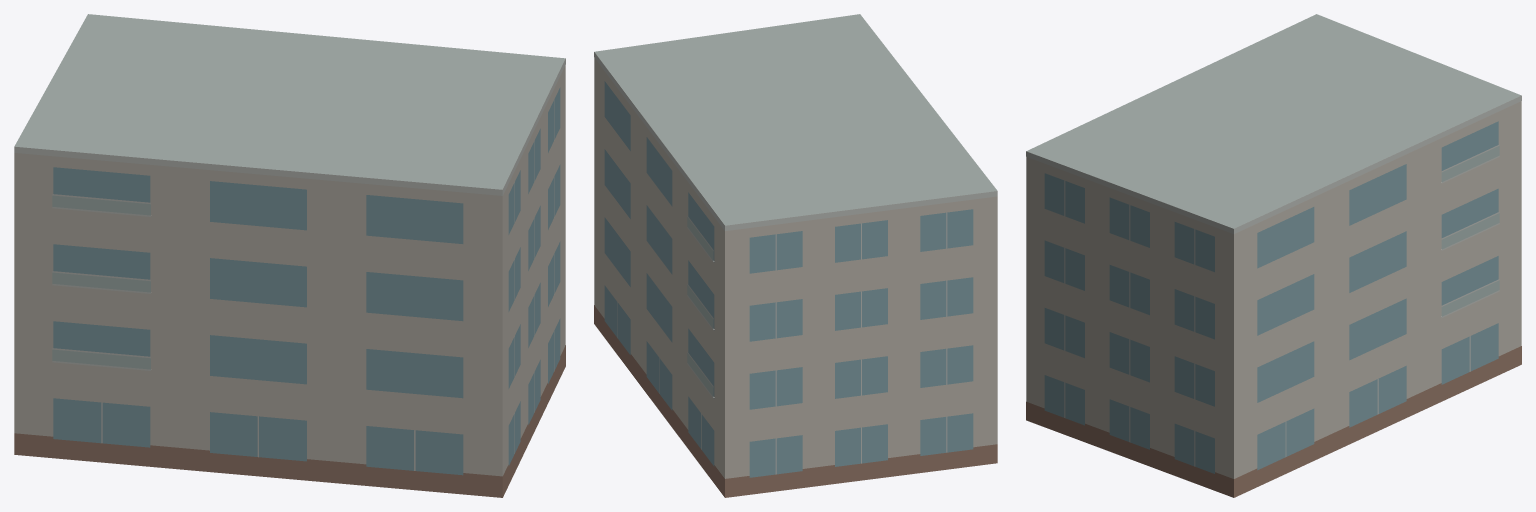
File: survey-upis-32749071.glb
The picture shows the model from 3 angles, left to right: view 1: azimuth 30°, elevation 25°; view 2: azimuth 150°, elevation 25°; view 3: azimuth 270°, elevation 25°; orthographic projection. The views are drawn at different scales.
Parts seen in each view (by area): view 1: survey-upis-32749071.tmp; view 2: survey-upis-32749071.tmp; view 3: survey-upis-32749071.tmp.
Part boxes in pixels (bbox=[...]): survey-upis-32749071.tmp: bbox=[14, 14, 565, 497]; survey-upis-32749071.tmp: bbox=[594, 14, 997, 497]; survey-upis-32749071.tmp: bbox=[1026, 14, 1521, 497].
Size of the model in its own units: 20.9 by 12.2 by 20.38.
